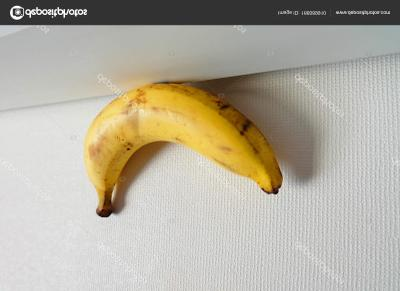banana: (0, 0, 400, 291)
